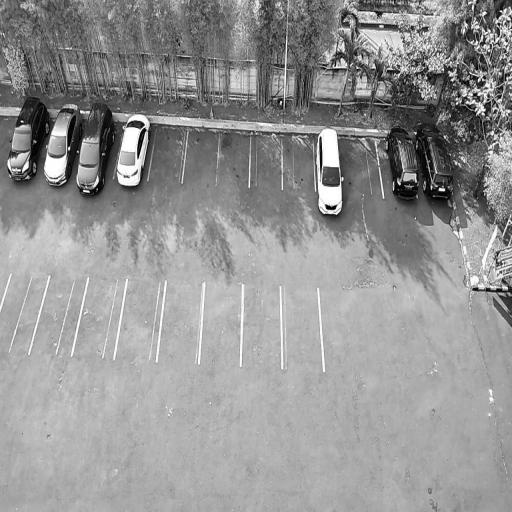Car: (70, 98, 119, 200), (1, 92, 54, 182), (39, 98, 88, 191), (412, 118, 457, 199), (112, 106, 155, 189), (380, 121, 422, 200), (315, 125, 347, 216)
Space Available: (29, 275, 88, 354), (72, 276, 127, 358), (114, 277, 166, 361), (0, 273, 49, 353), (156, 280, 203, 363), (240, 284, 284, 367), (281, 286, 324, 369), (199, 283, 243, 364), (148, 128, 188, 181), (182, 131, 220, 184), (282, 134, 315, 190), (216, 133, 250, 187), (250, 135, 283, 188)
